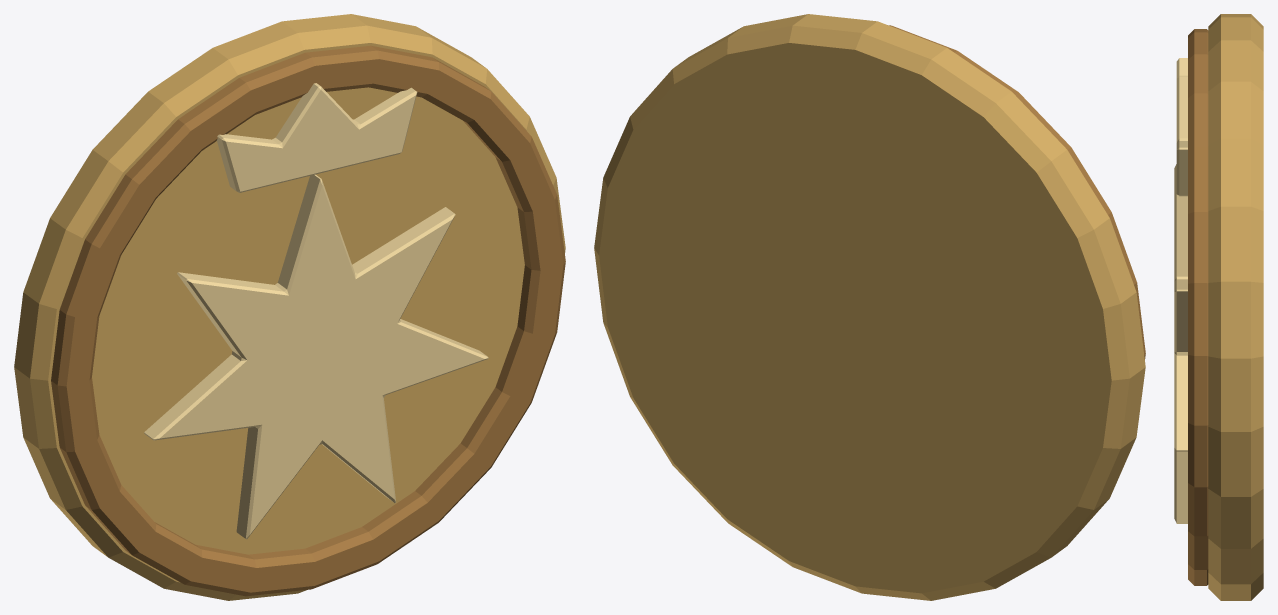
The model's file is GROSCHEN_COIN.lo.glb.
3 renders of one model, left to right at view 1: azimuth 30°, elevation 25°; view 2: azimuth 150°, elevation 25°; view 3: azimuth 270°, elevation 25°, orthographic. The views are drawn at different scales.
Parts seen in each view (by area): view 1: Body_Mesh; view 2: Body_Mesh; view 3: Body_Mesh.
Boxes of the visible parts, x1,y1,x2,y2 form: Body_Mesh: (14,14,565,600); Body_Mesh: (594,14,1145,600); Body_Mesh: (1174,14,1263,600).
Bounding box in the file's own units: 0.234 × 0.234 × 0.0355.
Materials: 1 (1 with a texture image).
